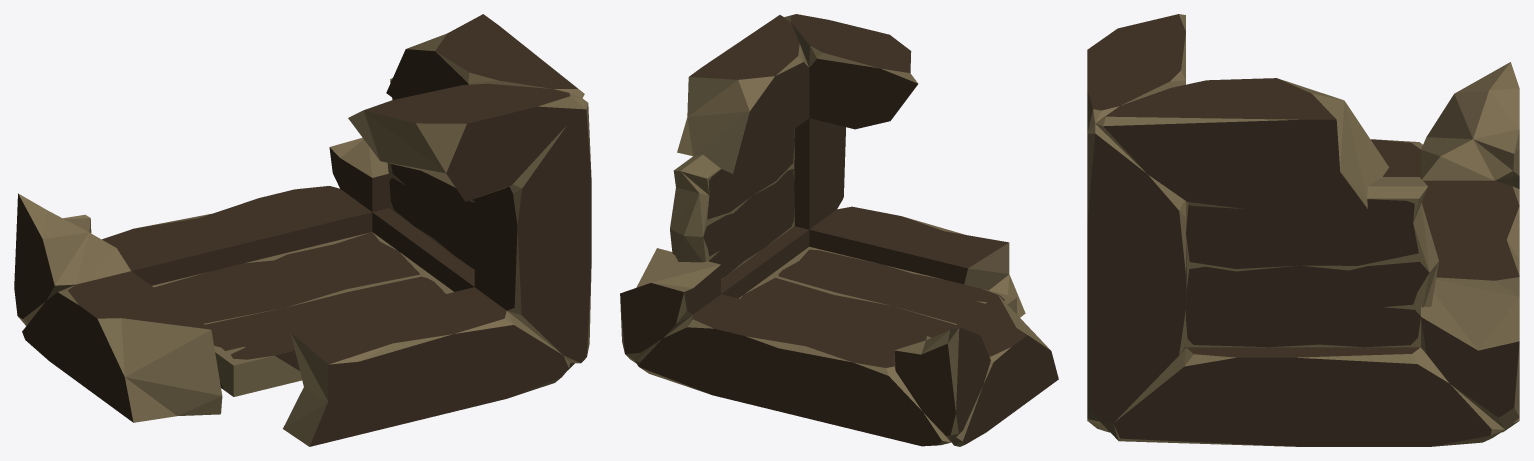
Rendered from Wooden_box_C_02.FBX.
3 views of the same model, side by side, from view 1: azimuth 30°, elevation 25°; view 2: azimuth 150°, elevation 25°; view 3: azimuth 270°, elevation 25° (orthographic). The views are drawn at different scales.
Parts seen in each view (by area): view 1: Wooden_box_C_02; view 2: Wooden_box_C_02; view 3: Wooden_box_C_02.
Part boxes in pixels (box(x1,y1,x2,y2)): Wooden_box_C_02: box(14, 14, 591, 446); Wooden_box_C_02: box(620, 14, 1058, 446); Wooden_box_C_02: box(1087, 14, 1519, 446).
Size of the model in its own units: 1.18 by 0.8218 by 0.9837.
